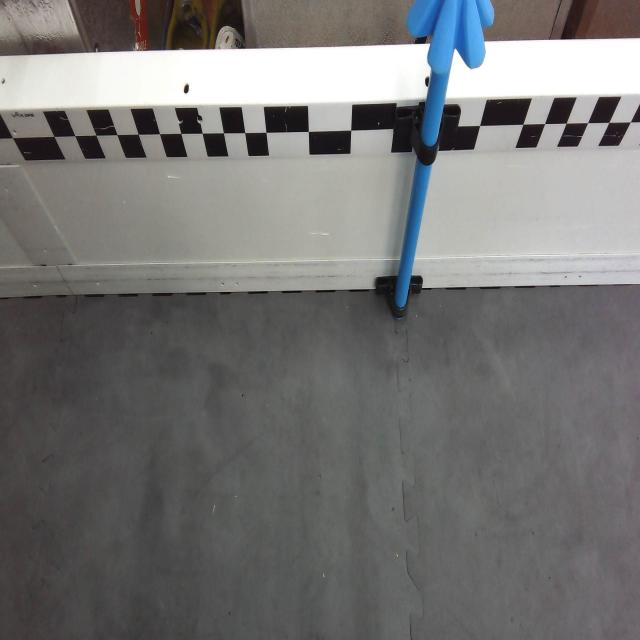zblue-Stake-Head: (406, 0, 494, 75)
